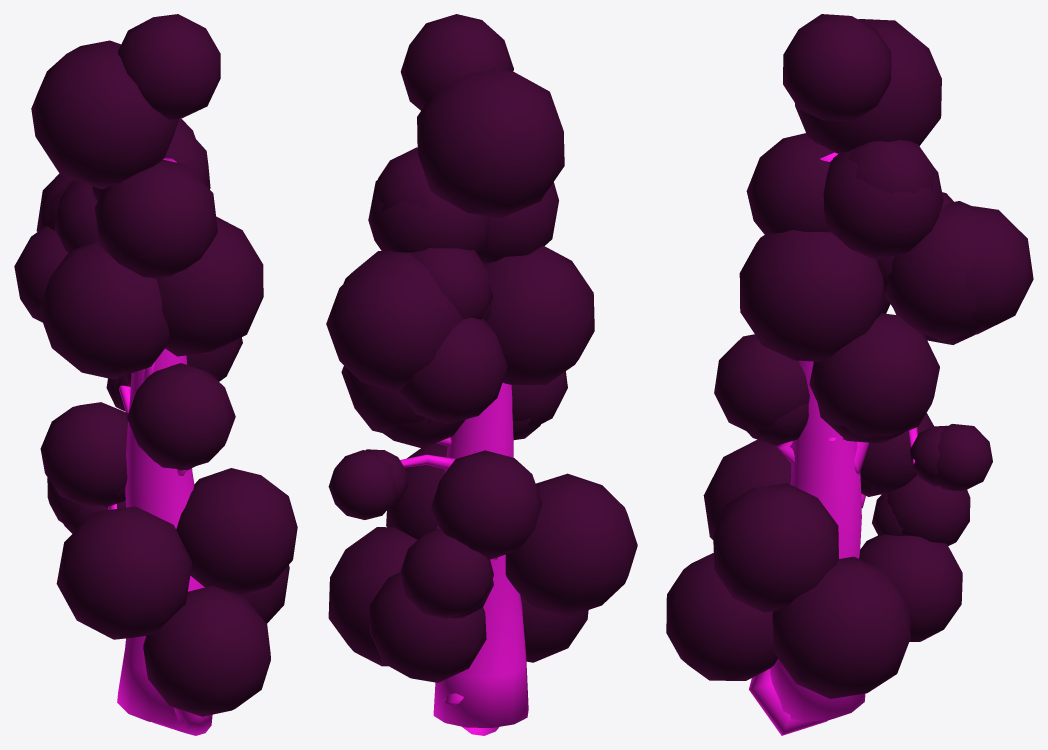
Rendered from LuceroTree.fbx.
The picture shows the model from 3 angles, left to right: view 1: azimuth 30°, elevation 25°; view 2: azimuth 150°, elevation 25°; view 3: azimuth 270°, elevation 25°; orthographic projection. The views are drawn at different scales.
Parts seen in each view (by area): view 1: merge1; view 2: merge1; view 3: merge1.
Boxes of the visible parts, x1,y1,x2,y2 form: merge1: [14, 14, 297, 735]; merge1: [326, 14, 637, 735]; merge1: [666, 14, 1033, 735].
Size of the model in its own units: 12.05 by 32.61 by 15.26.
